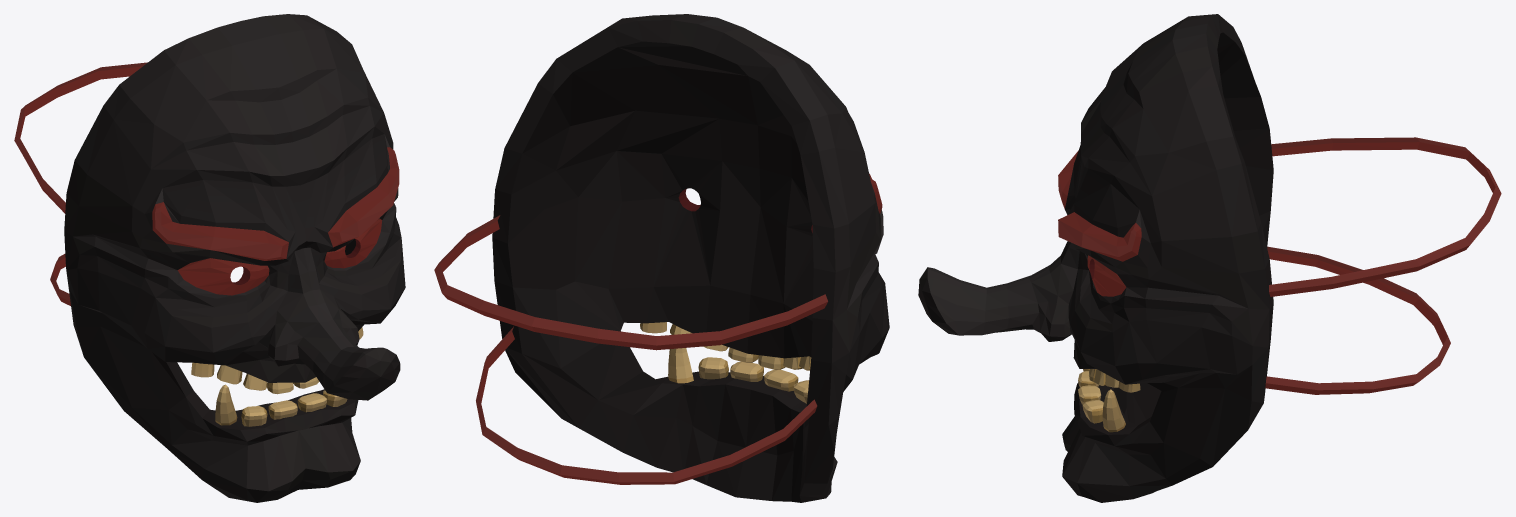
The model's file is tenguMaskBlack.glb.
The picture shows the model from 3 angles, left to right: view 1: azimuth 30°, elevation 25°; view 2: azimuth 150°, elevation 25°; view 3: azimuth 270°, elevation 25°; orthographic projection. The views are drawn at different scales.
Parts seen in each view (by area): view 1: tenguMaskBlack; view 2: tenguMaskBlack; view 3: tenguMaskBlack.
Boxes of the visible parts, left/top/right/bottom form: tenguMaskBlack: left=14, top=14, right=405, bottom=502; tenguMaskBlack: left=434, top=14, right=889, bottom=502; tenguMaskBlack: left=918, top=14, right=1501, bottom=502.
Bounding box in the file's own units: 0.2634 × 0.3551 × 0.4231.
